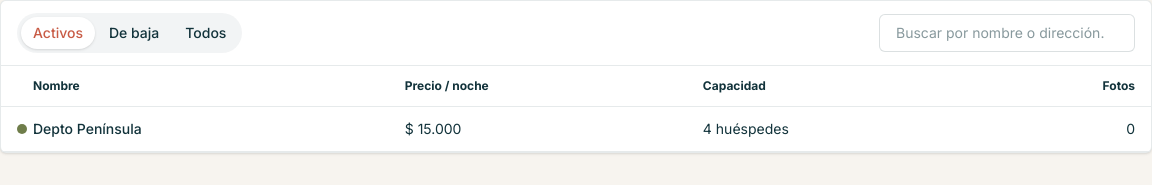
AlojamientosTable — filtros y búsqueda › una búsqueda sin coincidencias muestra el mensaje correspondiente
The width and height of the screenshot is (1152, 185).
Type "zzzzz" into the search field named "Buscar alojamientos". click: coordinates (1007, 33)
box: top-left (879, 14), bottom-right (1135, 52)
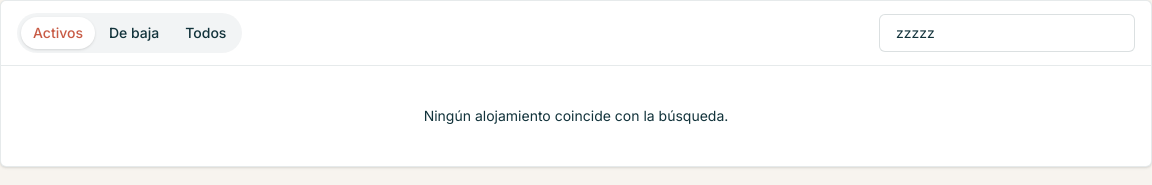
Result: the text "Ningún alojamiento coincide con la búsqueda." is shown at top-left (424, 107), bottom-right (728, 124)
